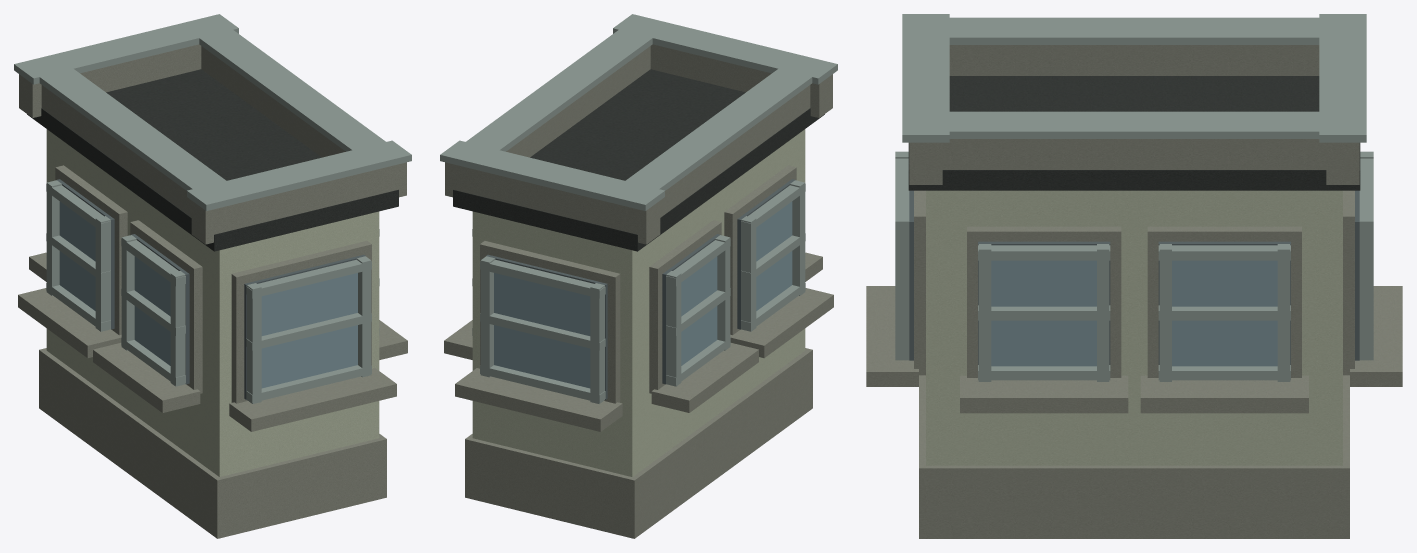
File: control_booth.glb
The picture shows the model from 3 angles, left to right: view 1: azimuth 30°, elevation 25°; view 2: azimuth 150°, elevation 25°; view 3: azimuth 270°, elevation 25°; orthographic projection. The views are drawn at different scales.
Parts seen in each view (by area): view 1: control_booth; view 2: control_booth; view 3: control_booth.
Boxes of the visible parts, <box> form: control_booth: <box>14,14,411,538</box>; control_booth: <box>440,14,837,538</box>; control_booth: <box>866,14,1402,538</box>.
Size of the model in its own units: 2.46 by 3.29 by 3.86.
Materials: 6 (3 with a texture image).
